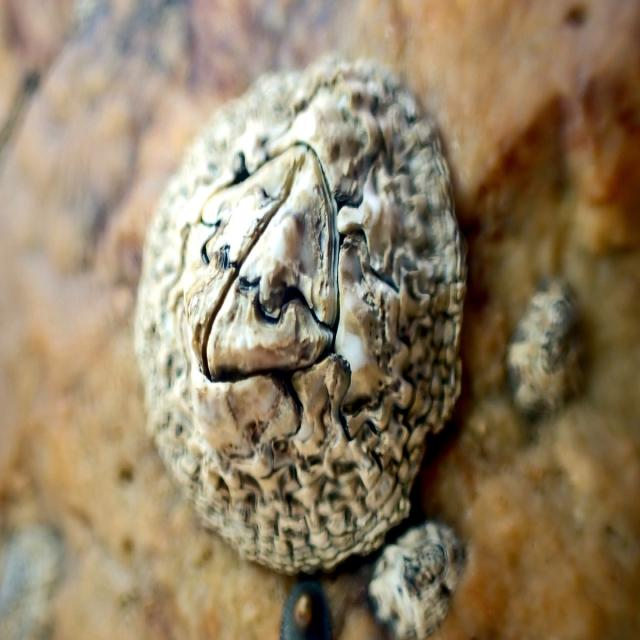barnacles: (128, 67, 466, 572), (499, 266, 589, 424), (363, 526, 470, 639)
